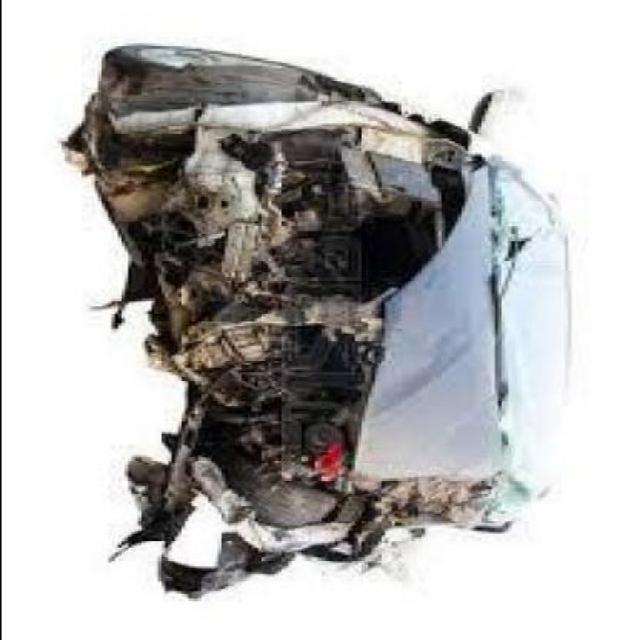damage: (66, 53, 580, 596)
